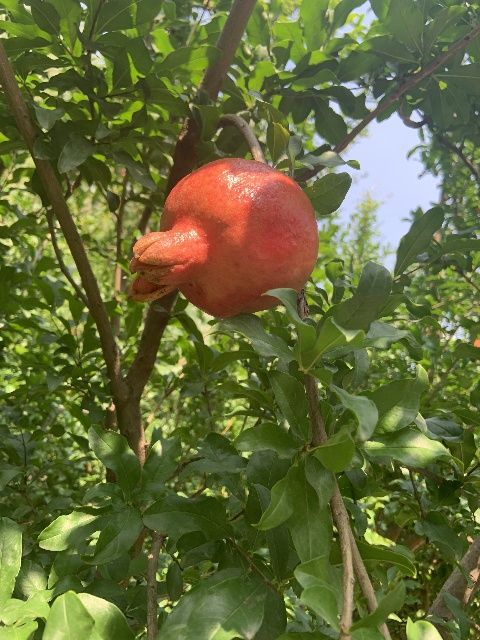ripe: (126, 157, 319, 318)
